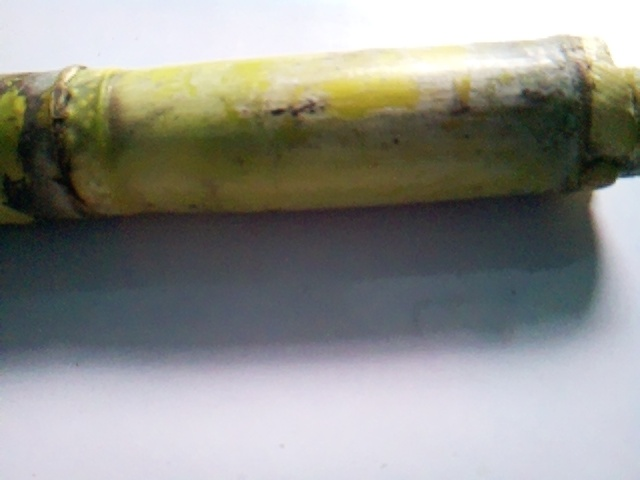Good Sugarcane: (0, 34, 638, 230)
Node: (22, 65, 121, 222), (536, 33, 630, 198)
